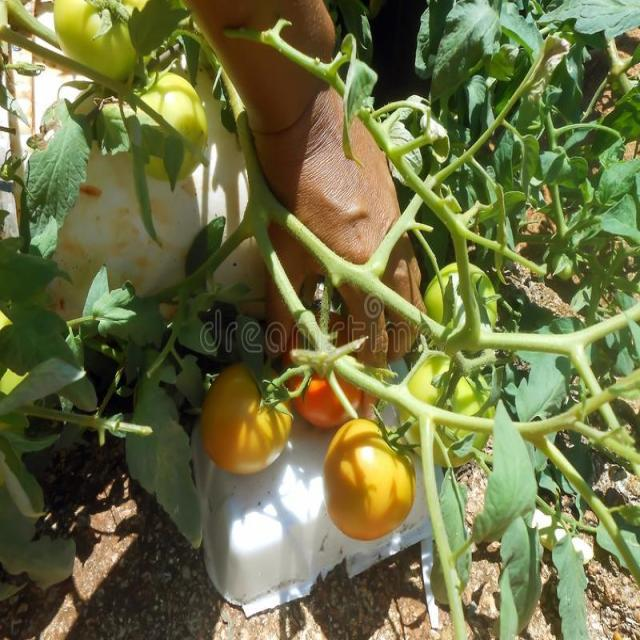sari: (336, 420, 424, 540)
yesil: (64, 4, 232, 196)
